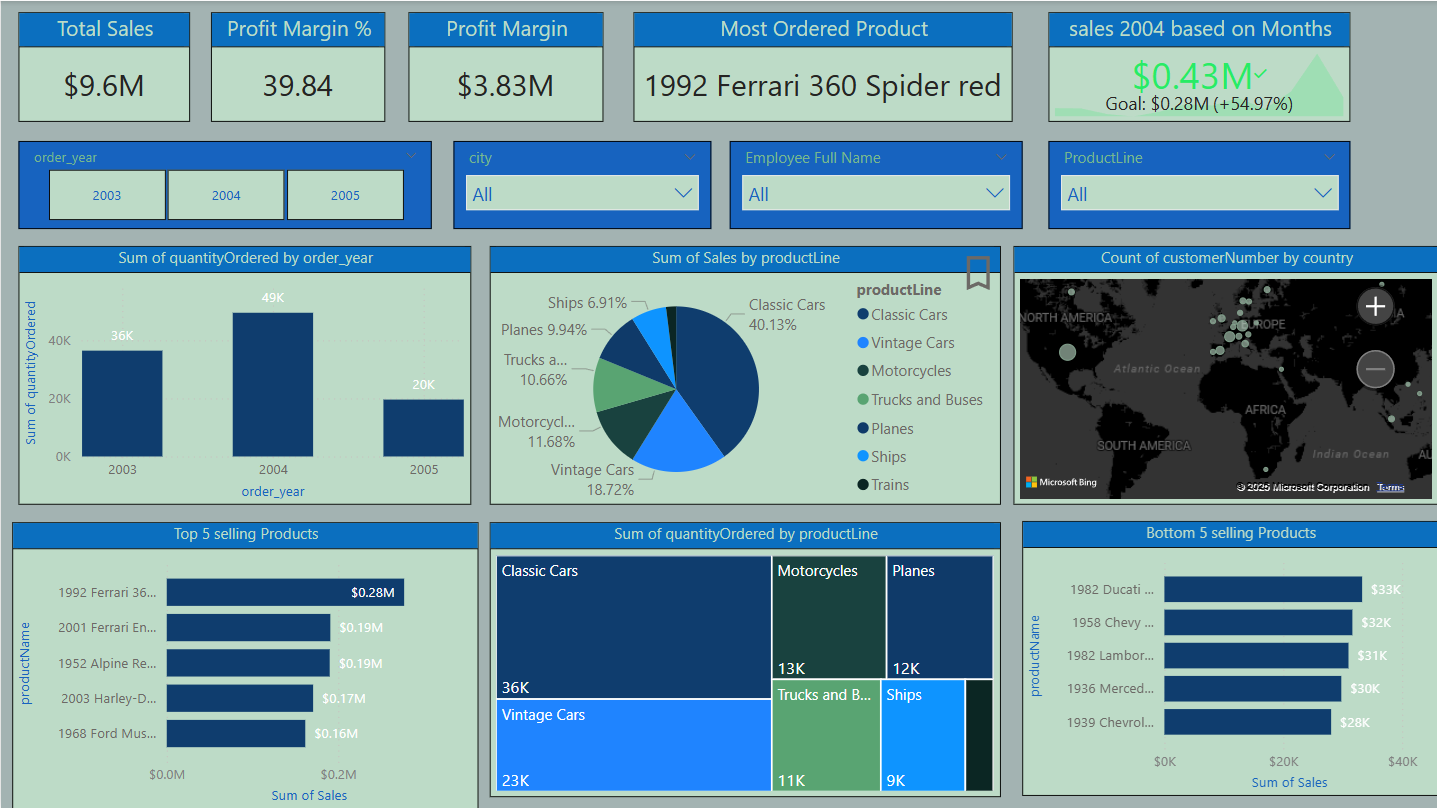

Layout of this report page (visuals, bound fields, positions):
{"tool":"powerbi","page":{"name":"Page 1","canvas":[1280,720],"ordinal":0},"visuals":[{"type":"barChart","title":"Top 5 selling Products","fields":{"Category":["Products.productName"],"Y":["Sum(Orders detail.Sales)"]},"box":[9.7,464.5,415,255.8],"z":0},{"type":"pieChart","fields":{"Category":["Product line.productLine"],"Y":["Sum(Orders detail.Sales)"]},"box":[435.5,218.4,454.8,230.4],"z":1000},{"type":"card","title":"Profit Margin","fields":{"Values":["Orders detail.total_profit"]},"box":[363.2,9.8,173.6,97.8],"z":2000},{"type":"card","title":"Most Ordered Product","fields":{"Values":["Orders detail.Most Ordered Product"]},"box":[563.7,9.8,337.5,97.8],"z":3000},{"type":"slicer","title":"Order Year","fields":{"Values":["Orders.order_year"]},"box":[15.7,124.3,368,78.4],"z":4000},{"type":"kpi","title":"sales 2004 based on Months","fields":{"TrendLine":["Orders.Month Name"],"Indicator":["Orders.sales_2004"],"Goal":["Orders.sales_2003"]},"box":[933,9.8,269,97.8],"z":5000},{"type":"map","fields":{"Size":["Count(Customers.customerNumber)"],"Category":["Customers.country"]},"box":[901.2,218.4,378.8,230.4],"z":6000},{"type":"treemap","fields":{"Group":["Product line.productLine"],"Values":["Sum(Orders detail.quantityOrdered)"]},"box":[435.5,464.5,454.8,244.9],"z":7000},{"type":"clusteredColumnChart","fields":{"Category":["Orders.order_year"],"Y":["Sum(Orders detail.quantityOrdered)"]},"box":[15.7,218.4,403,230.4],"z":8000},{"type":"card","title":"Profit Margin %","fields":{"Values":["classic_models_dataset.profit_margin_%"]},"box":[187.1,9.8,155.3,97.8],"z":9000},{"type":"card","title":"Total Sales","fields":{"Values":["Customers.total_sales"]},"box":[15.9,9.8,152.9,97.8],"z":10000},{"type":"slicer","fields":{"Values":["Offices.city"]},"box":[403,124.3,229.2,78.4],"z":11000},{"type":"slicer","fields":{"Values":["Employee.Employee Full Name"]},"box":[649.1,124.3,260.6,78.4],"z":12000},{"type":"slicer","fields":{"Values":["Product line.productLine"]},"box":[932.6,124.3,269,78.4],"z":13000},{"type":"barChart","title":"Bottom 5 selling Products","fields":{"Category":["Products.productName"],"Y":["Sum(Orders detail.Sales)"]},"box":[909.7,463.3,370.4,244.9],"z":14000},{"type":"actionButton","box":[850.5,218.4,39.8,48.3],"z":15000}]}

Visuals, with their boxes in screenshot pixels (x1, y1, x2, y2), scaled from the page's 1280x720 canvas onto the 1437x808 screenshot:
"Top 5 selling Products" barChart: pyautogui.locateOnScreen(11, 521, 477, 807)
pieChart - Product line.productLine x Sum(Orders detail.Sales): pyautogui.locateOnScreen(489, 245, 1000, 504)
"Profit Margin" card: pyautogui.locateOnScreen(408, 11, 603, 121)
"Most Ordered Product" card: pyautogui.locateOnScreen(633, 11, 1012, 121)
"Order Year" slicer: pyautogui.locateOnScreen(18, 139, 431, 227)
"sales 2004 based on Months" kpi: pyautogui.locateOnScreen(1047, 11, 1349, 121)
map - Count(Customers.customerNumber) x Customers.country: pyautogui.locateOnScreen(1012, 245, 1436, 504)
treemap - Product line.productLine x Sum(Orders detail.quantityOrdered): pyautogui.locateOnScreen(489, 521, 1000, 796)
clusteredColumnChart - Orders.order_year x Sum(Orders detail.quantityOrdered): pyautogui.locateOnScreen(18, 245, 470, 504)
"Profit Margin %" card: pyautogui.locateOnScreen(210, 11, 384, 121)
"Total Sales" card: pyautogui.locateOnScreen(18, 11, 190, 121)
slicer - Offices.city: pyautogui.locateOnScreen(452, 139, 710, 227)
slicer - Employee.Employee Full Name: pyautogui.locateOnScreen(729, 139, 1021, 227)
slicer - Product line.productLine: pyautogui.locateOnScreen(1047, 139, 1349, 227)
"Bottom 5 selling Products" barChart: pyautogui.locateOnScreen(1021, 520, 1436, 795)
actionButton: pyautogui.locateOnScreen(955, 245, 1000, 299)
